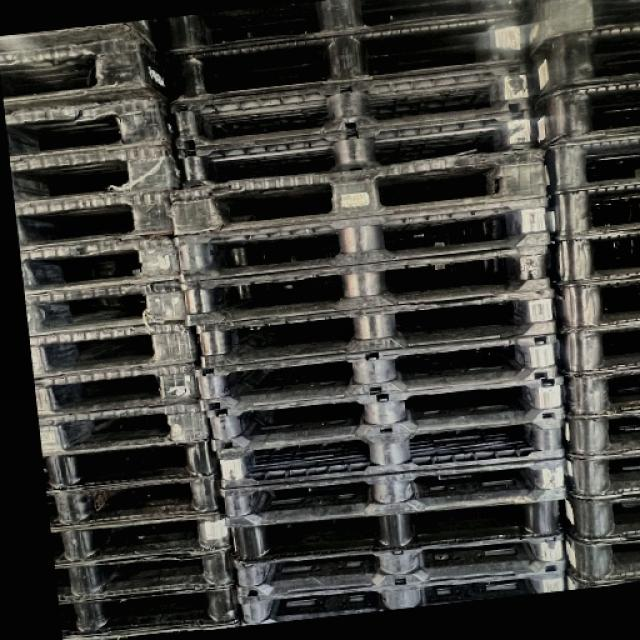igps: (163, 140, 553, 242), (161, 6, 532, 112), (167, 54, 538, 158), (170, 188, 554, 288), (177, 236, 553, 335), (174, 97, 538, 194), (193, 280, 560, 374), (194, 371, 571, 460), (214, 410, 570, 502), (188, 330, 564, 416), (230, 523, 574, 611), (217, 455, 572, 536), (221, 492, 576, 569), (231, 555, 575, 632), (163, 0, 526, 61), (0, 15, 174, 111), (10, 176, 184, 264), (0, 85, 185, 164), (42, 464, 227, 538), (25, 313, 199, 391), (51, 538, 236, 611), (46, 504, 236, 574), (15, 228, 187, 305), (34, 393, 215, 464), (38, 430, 219, 501), (22, 271, 196, 344), (32, 354, 203, 426), (54, 578, 245, 640), (7, 153, 192, 210), (522, 18, 639, 104), (523, 72, 639, 152), (515, 0, 640, 64), (535, 124, 639, 199), (540, 181, 639, 242), (541, 228, 639, 288), (547, 272, 639, 332), (549, 320, 639, 378), (558, 365, 638, 416), (556, 408, 638, 456), (560, 452, 638, 500), (559, 538, 640, 583), (554, 496, 640, 538), (562, 570, 640, 596)
